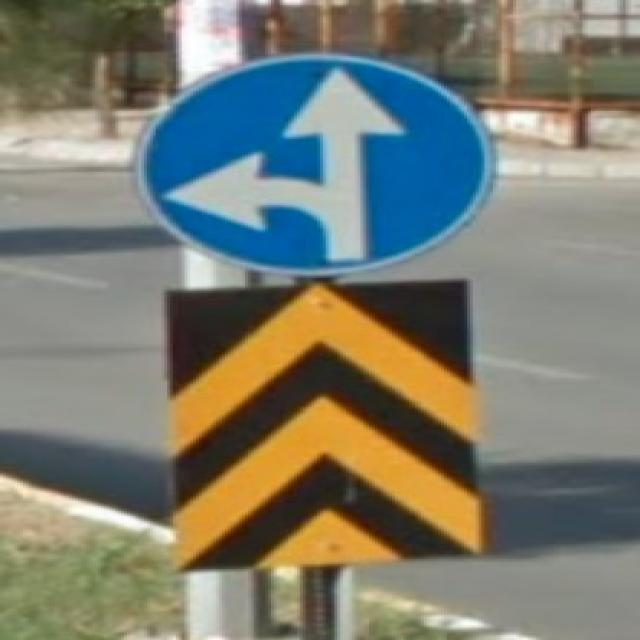Straight or Left: (141, 54, 492, 277)
